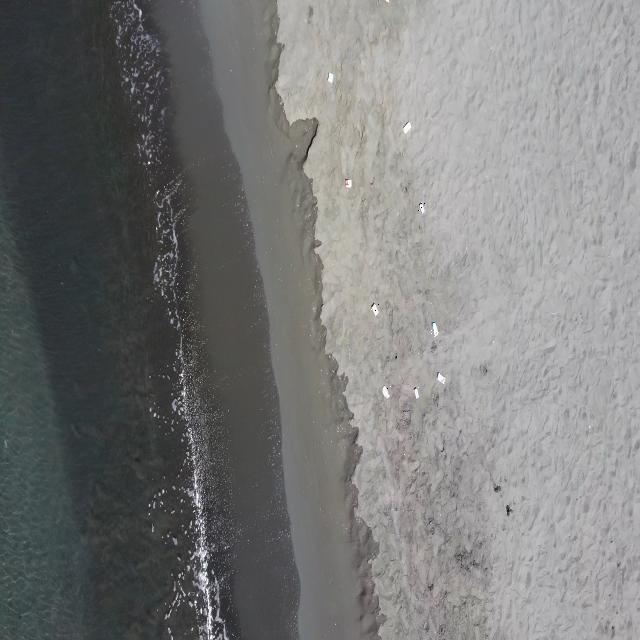Garbage: (371, 303, 379, 316), (436, 372, 444, 384), (403, 120, 411, 132), (431, 320, 437, 336), (417, 201, 424, 213), (327, 71, 333, 83), (344, 178, 351, 187), (413, 387, 419, 397), (382, 385, 387, 397), (384, 0, 388, 2)
